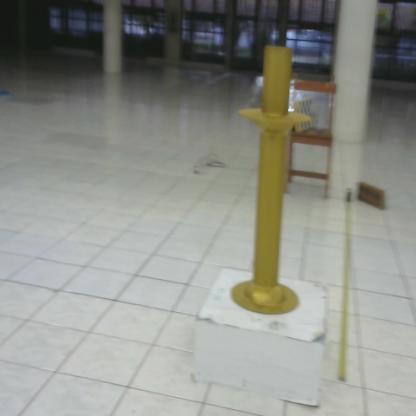pole: (233, 43, 310, 317)
